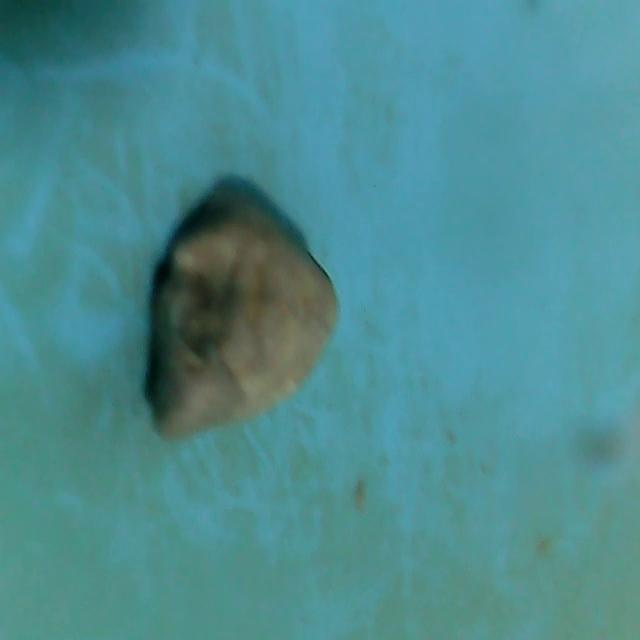rock: (138, 199, 342, 451)
